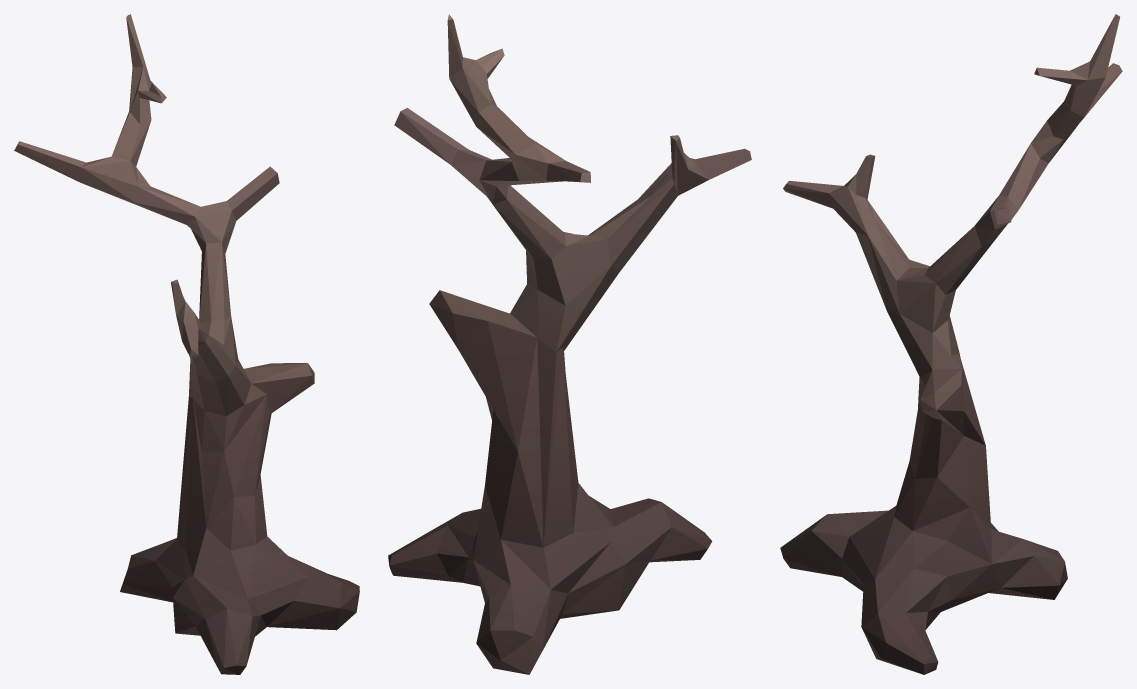
Rendered from tree-2.glb.
3 views of the same model, side by side, from view 1: azimuth 30°, elevation 25°; view 2: azimuth 150°, elevation 25°; view 3: azimuth 270°, elevation 25° (orthographic). The views are drawn at different scales.
Parts seen in each view (by area): view 1: tree2; view 2: tree2; view 3: tree2.
Boxes of the visible parts, x1,y1,x2,y2 form: tree2: (14,14,359,674); tree2: (388,14,751,674); tree2: (780,14,1122,674).
Size of the model in its own units: 2.14 by 4.47 by 2.33.
Materials: 1 (1 with a texture image).
